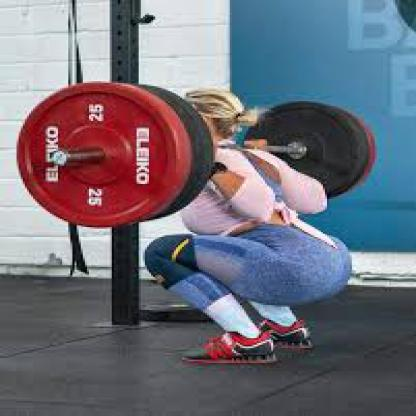Barbell: (12, 77, 204, 232)
